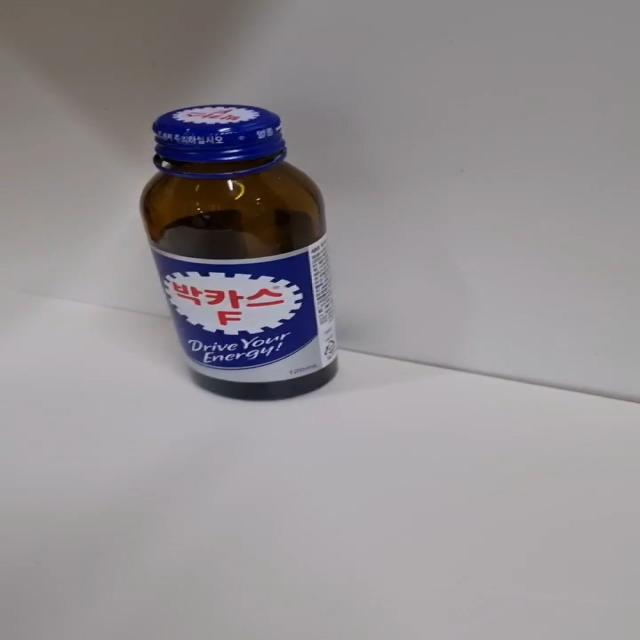Glass: (139, 104, 338, 402)
